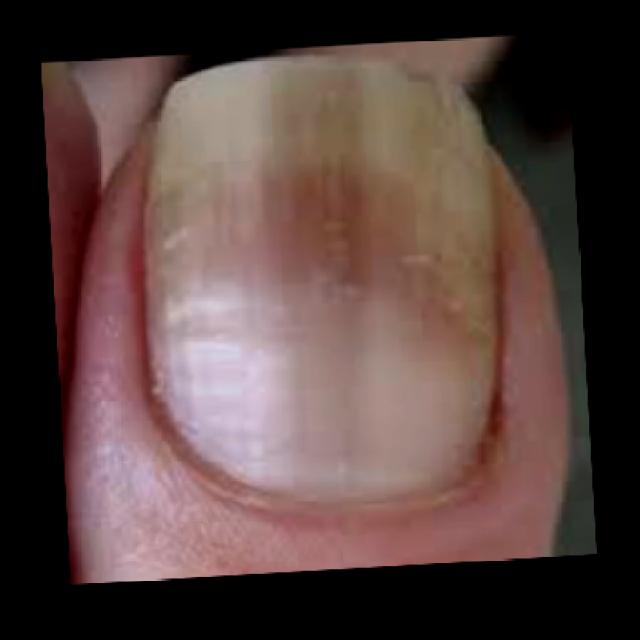Nail: (151, 61, 494, 494)
